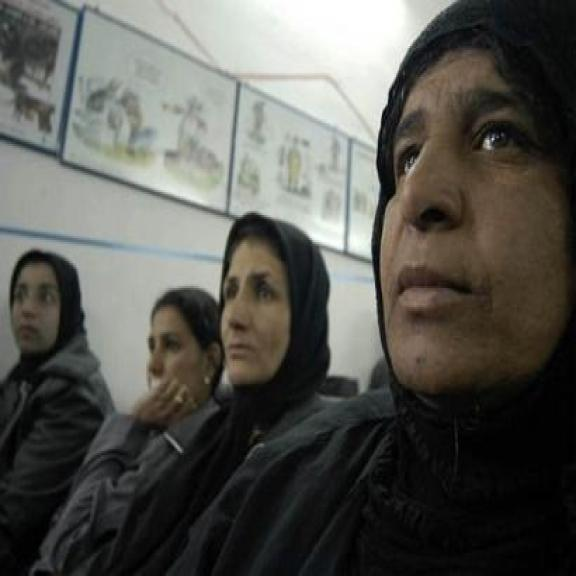face: (375, 57, 569, 406), (214, 242, 306, 383), (143, 312, 221, 414), (13, 259, 65, 355)
